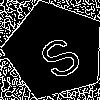S: (30, 26, 86, 83)
